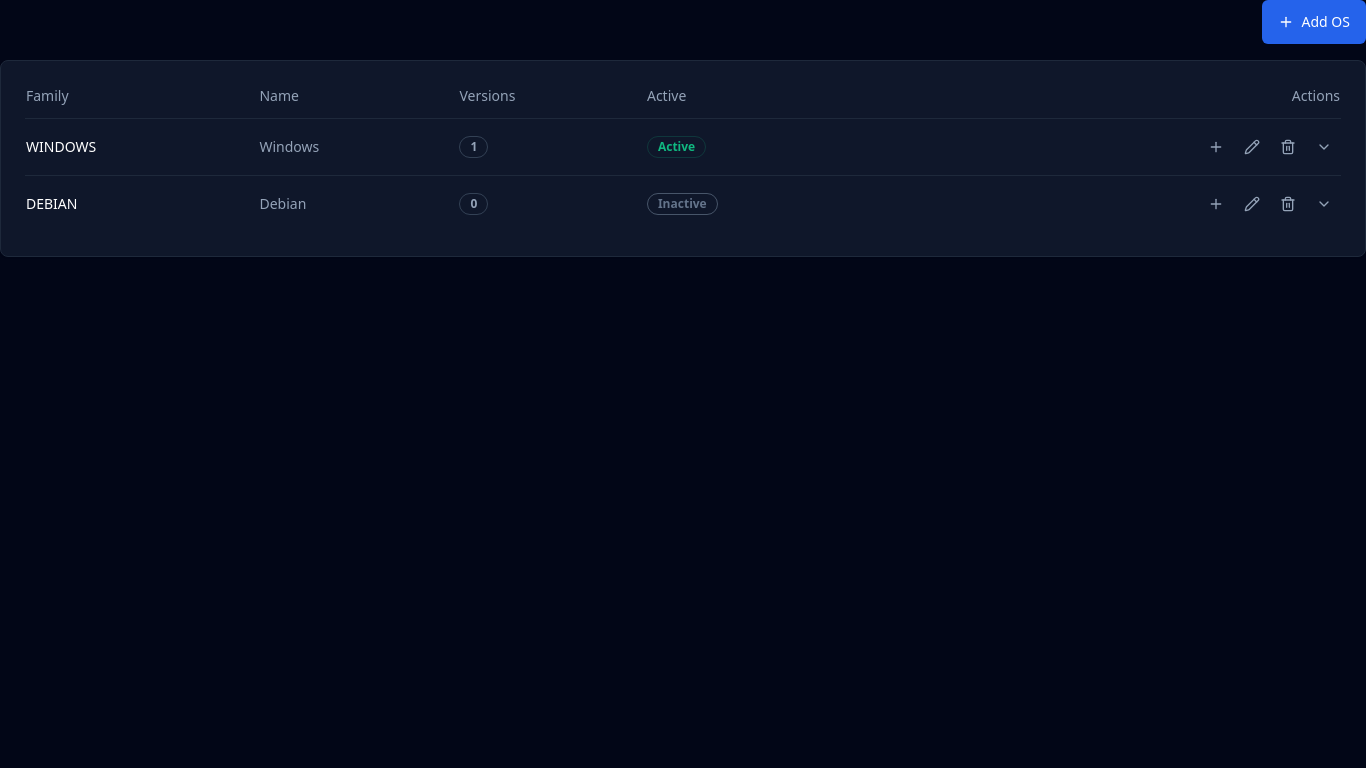
it: AdminOS › OS Modal › opens modal when Add OS is clicked
Click the button "Add OS" at point(1314, 22), box [1262,0,1365,44]
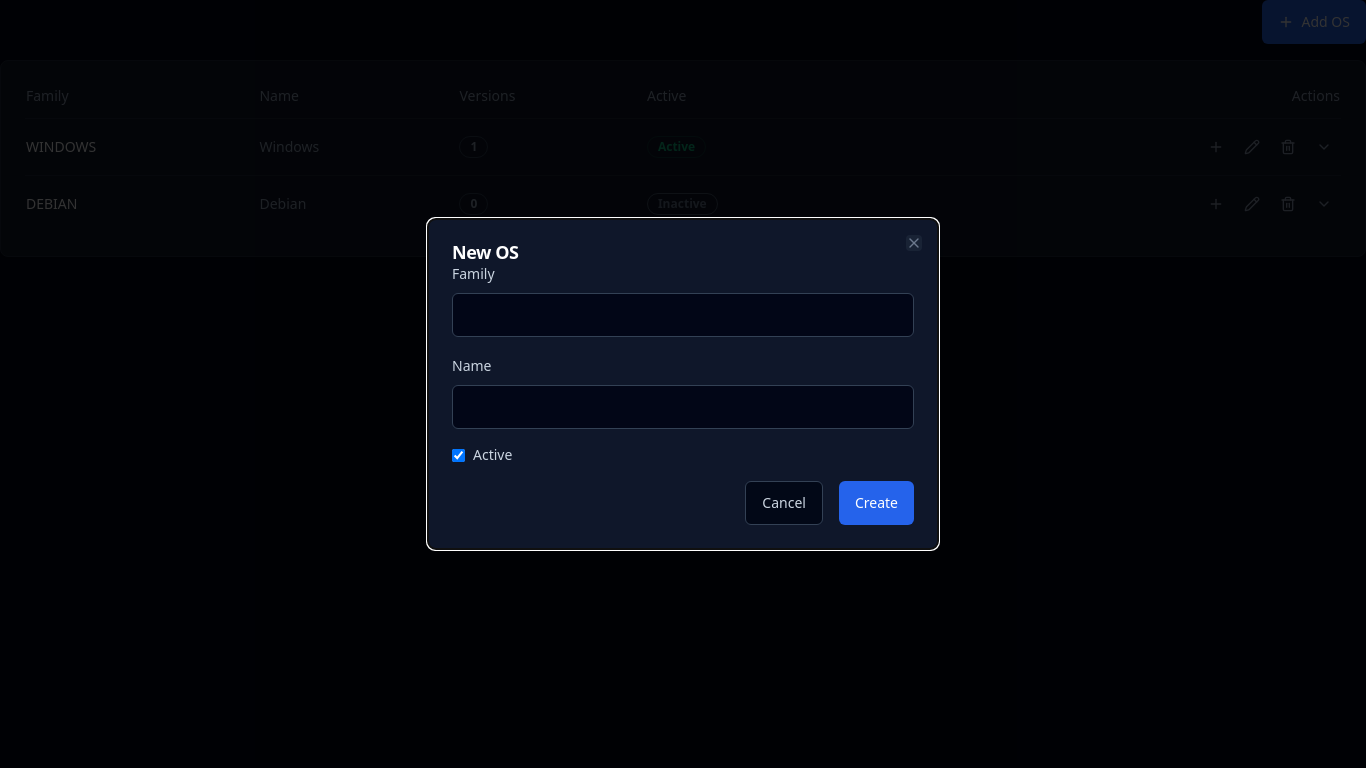
Expected: the heading "New OS" is shown, [452,243,518,264]
